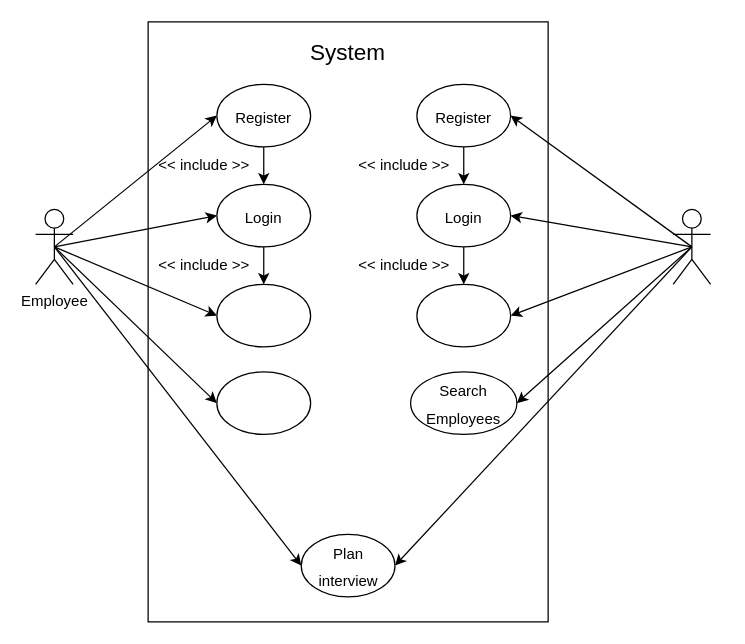
Image size: 745x644. Some labels were removed from this diagram. The shapes that lost their labels are listed below. From the top down, each one's centre as x and y in pixels, then its label:
(691,246): Employer
(263,315): Upload CV
(463,315): Upload Position
(263,402): Search Positions
